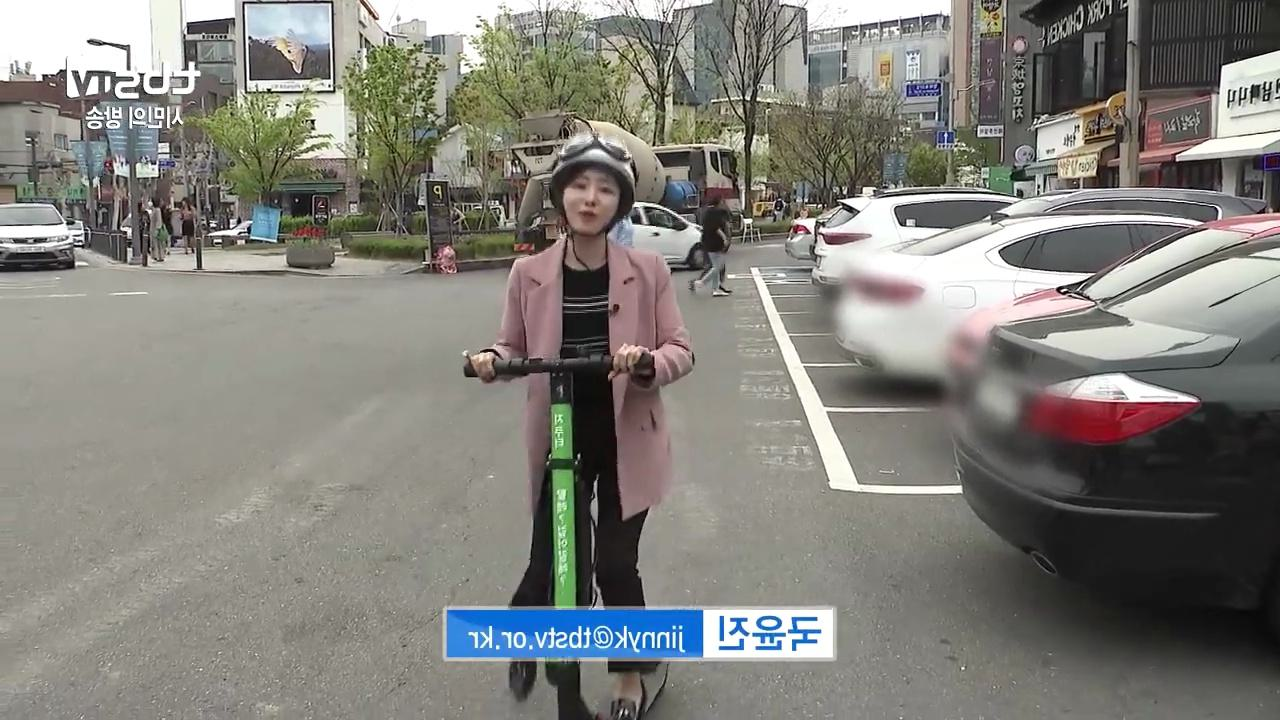helmet: (459, 127, 697, 720)
